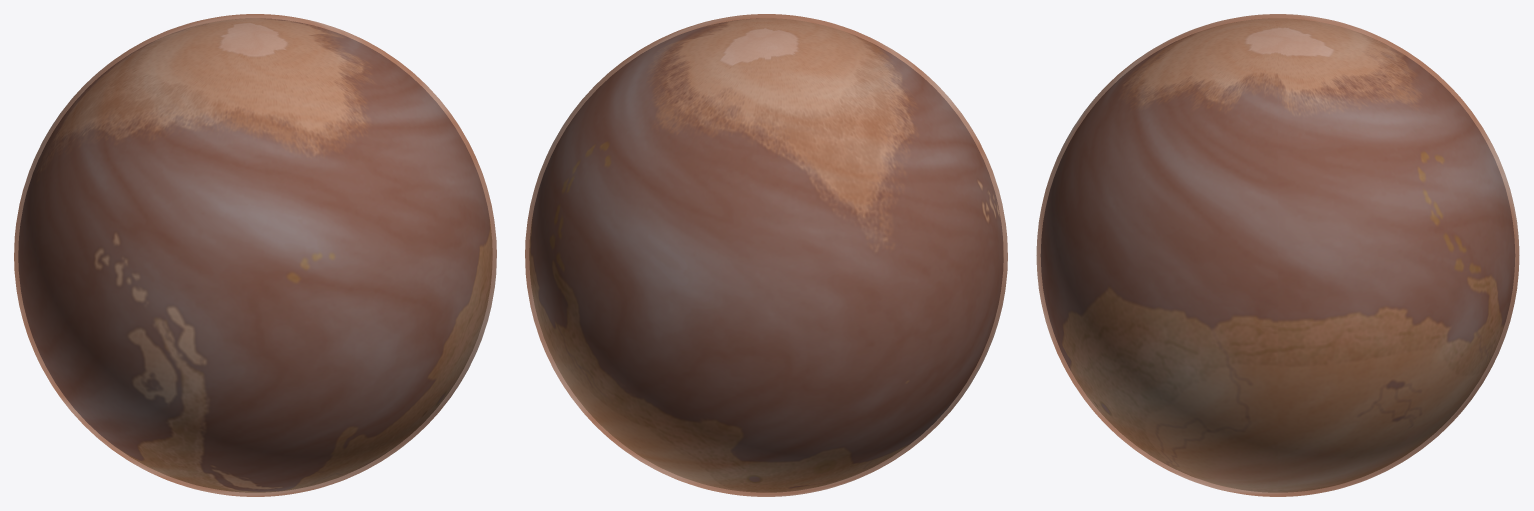
3 renders of one model, left to right at view 1: azimuth 30°, elevation 25°; view 2: azimuth 150°, elevation 25°; view 3: azimuth 270°, elevation 25°, orthographic.
Parts seen in each view (by area): view 1: Nubes, Esfera; view 2: Nubes, Esfera; view 3: Nubes, Esfera.
Boxes of the visible parts, left/top/right/bottom form: Nubes: left=14, top=14, right=496, bottom=496; Esfera: left=18, top=18, right=492, bottom=492; Nubes: left=525, top=14, right=1007, bottom=496; Esfera: left=529, top=18, right=1003, bottom=492; Nubes: left=1036, top=14, right=1519, bottom=496; Esfera: left=1041, top=18, right=1514, bottom=492.
Size of the model in its own units: 2036 by 2036 by 2036.
2 materials, 2 textured.
